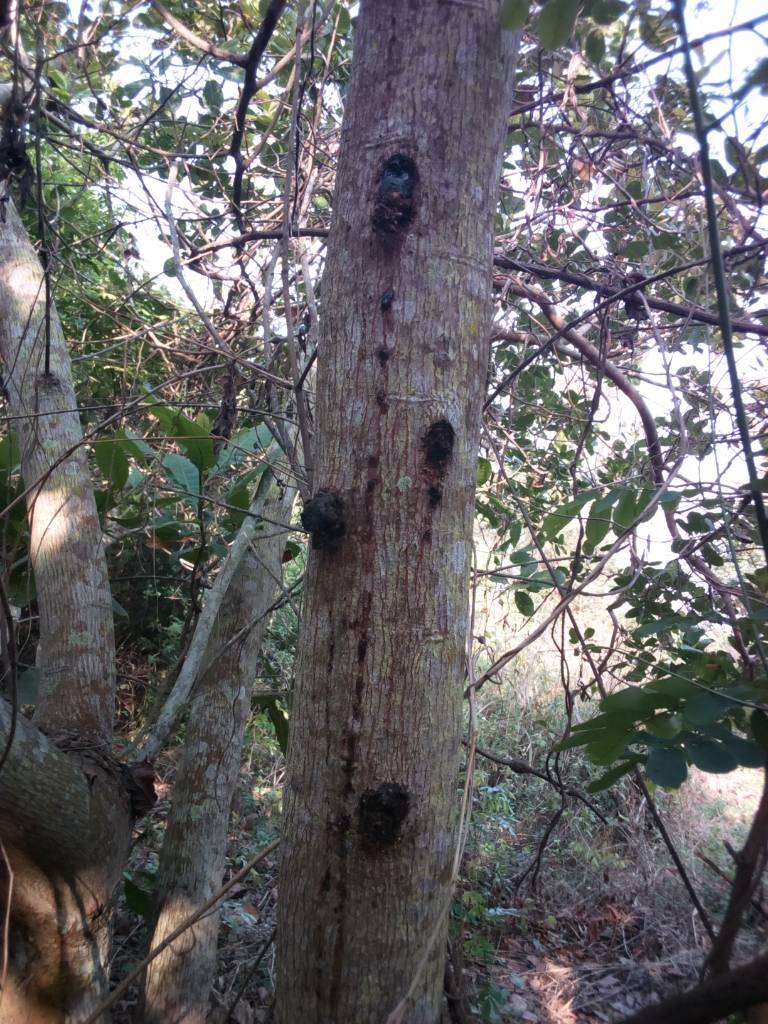Mecocorynus longiceps: (343, 772, 436, 863), (282, 483, 363, 560), (402, 401, 475, 485)
